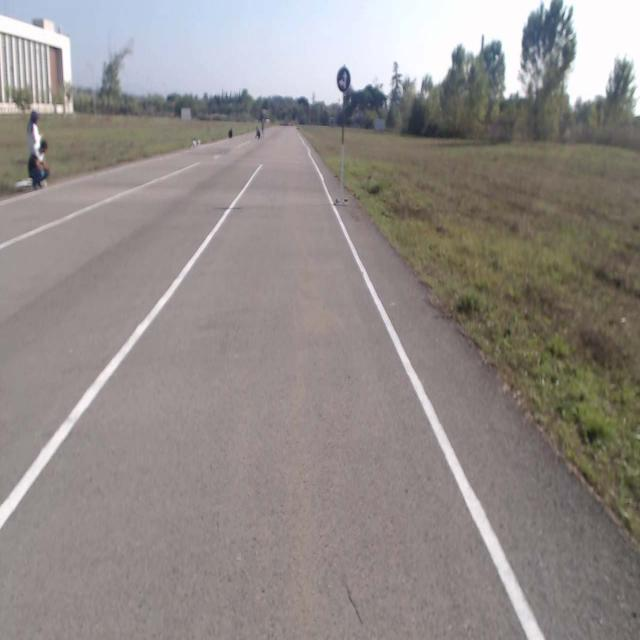ilerisol: (337, 68, 351, 91)
